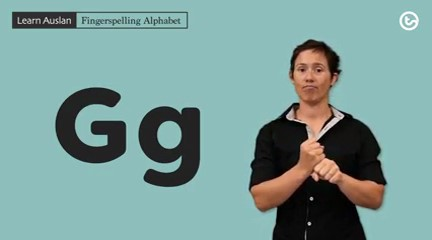G: (294, 138, 344, 186)
